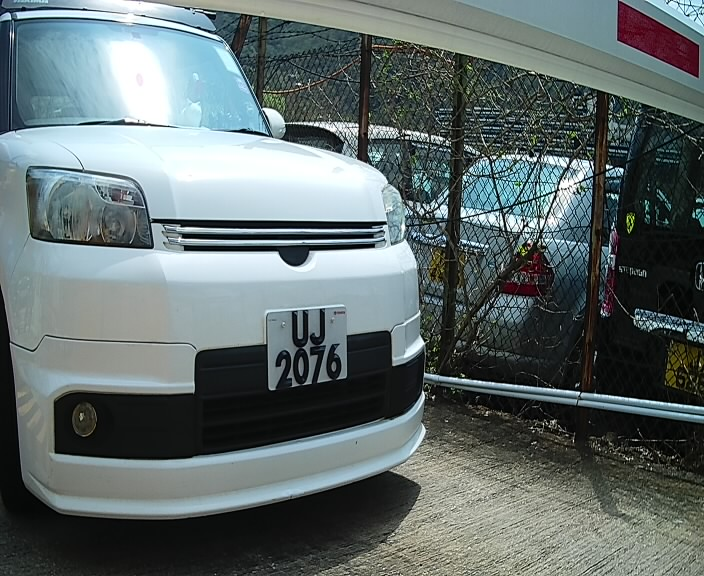License Plate: (262, 299, 351, 395)
